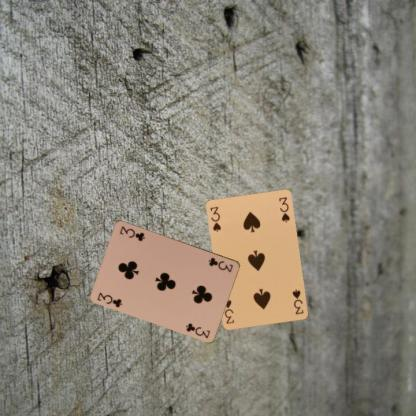3c: (206, 255, 235, 273), (95, 290, 124, 308)
3s: (290, 286, 305, 316), (208, 204, 222, 233)
